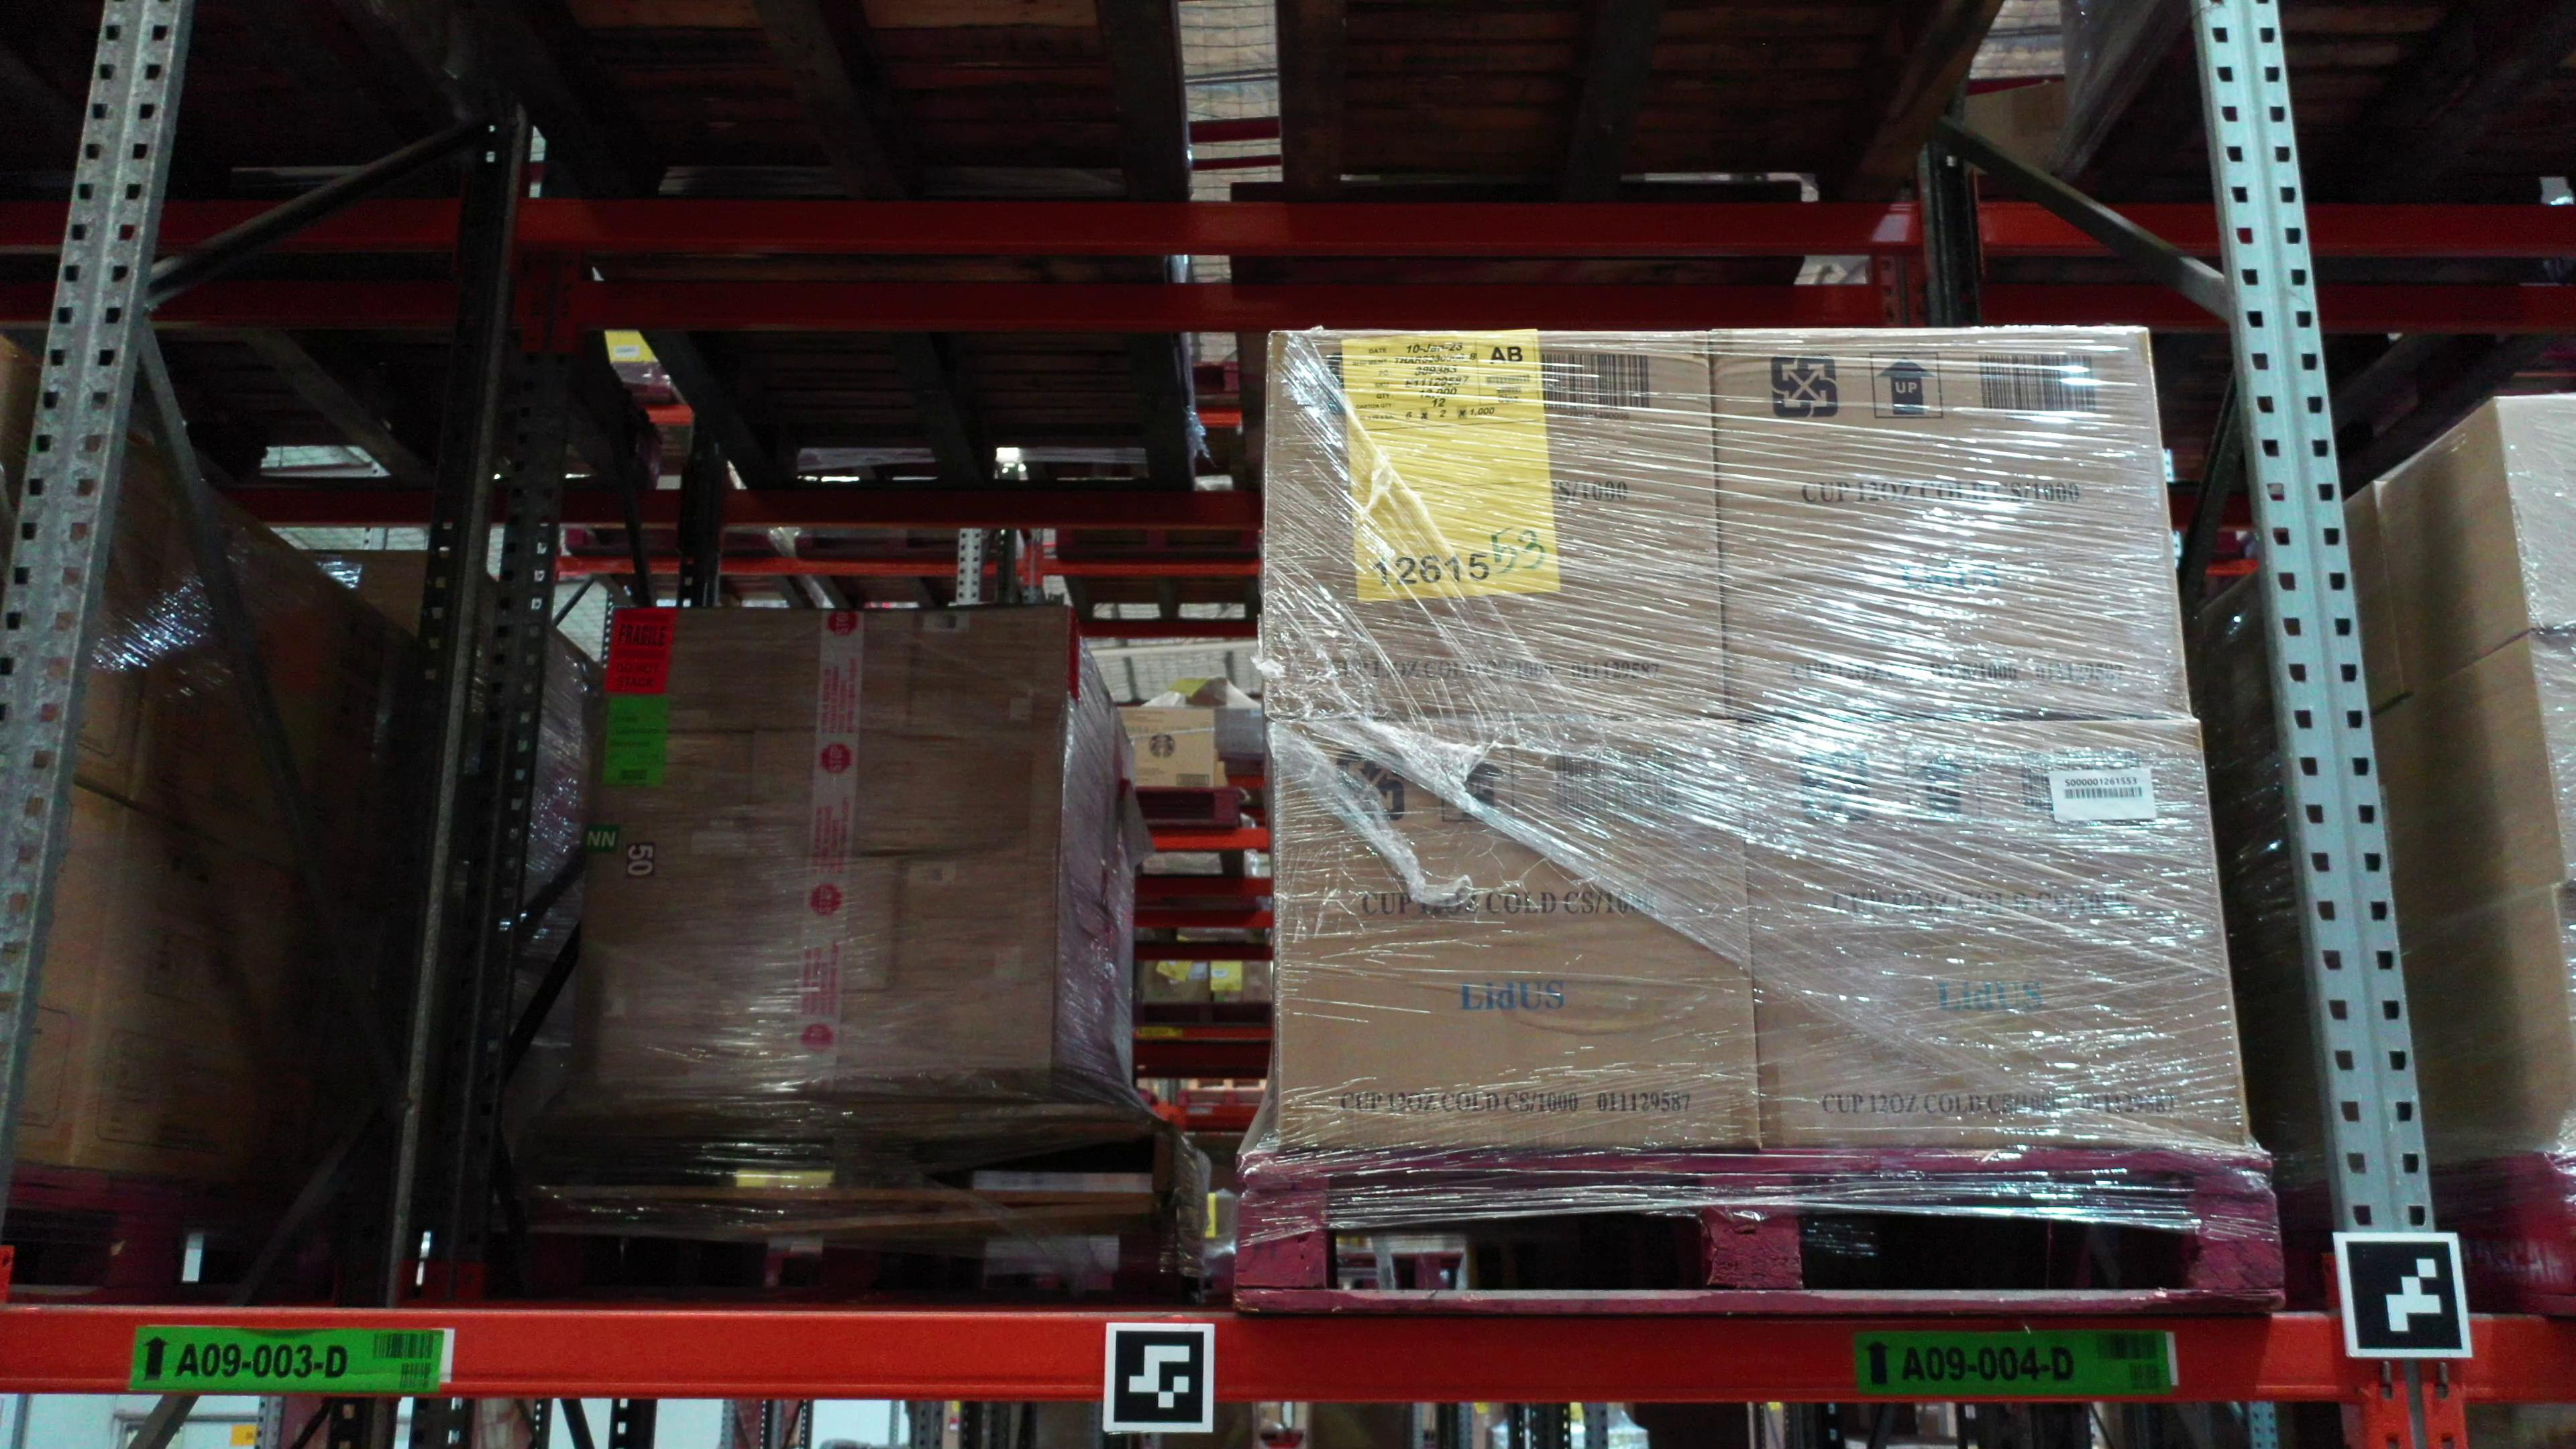-: (1736, 722, 2252, 1152), (1270, 722, 1766, 1152), (1709, 327, 2192, 724), (1263, 329, 1729, 727), (2489, 396, 2576, 635)
box: (579, 855, 897, 996), (603, 607, 916, 738), (747, 734, 1067, 862), (741, 993, 1051, 1102), (890, 858, 1058, 994), (908, 605, 1067, 741), (591, 734, 752, 862), (570, 994, 747, 1099)
